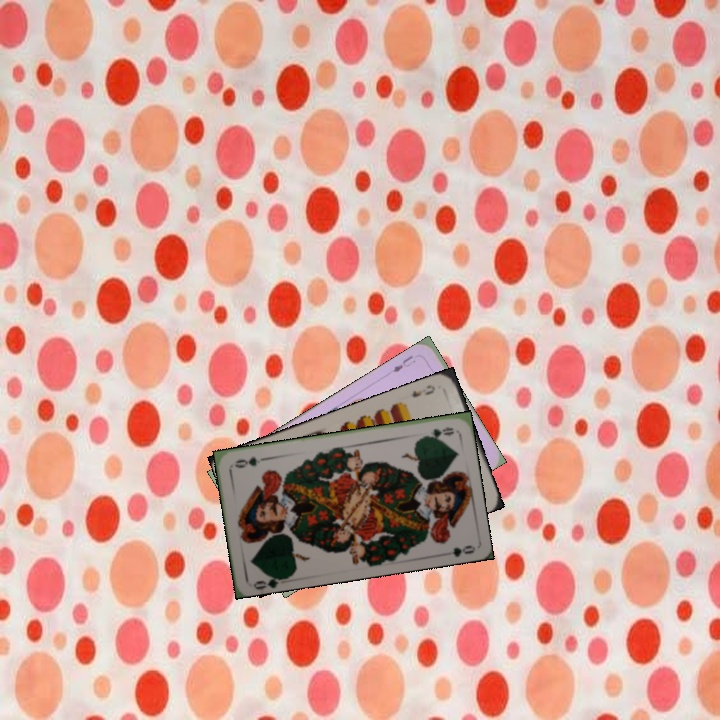E9: (407, 381, 438, 400)
EU: (389, 350, 422, 375)
GO: (249, 569, 289, 591), (417, 423, 457, 442)
